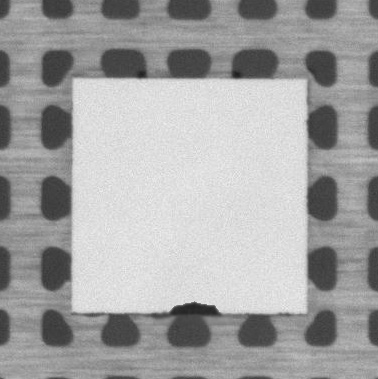DIE_BROKEN: (167, 301, 223, 317)
